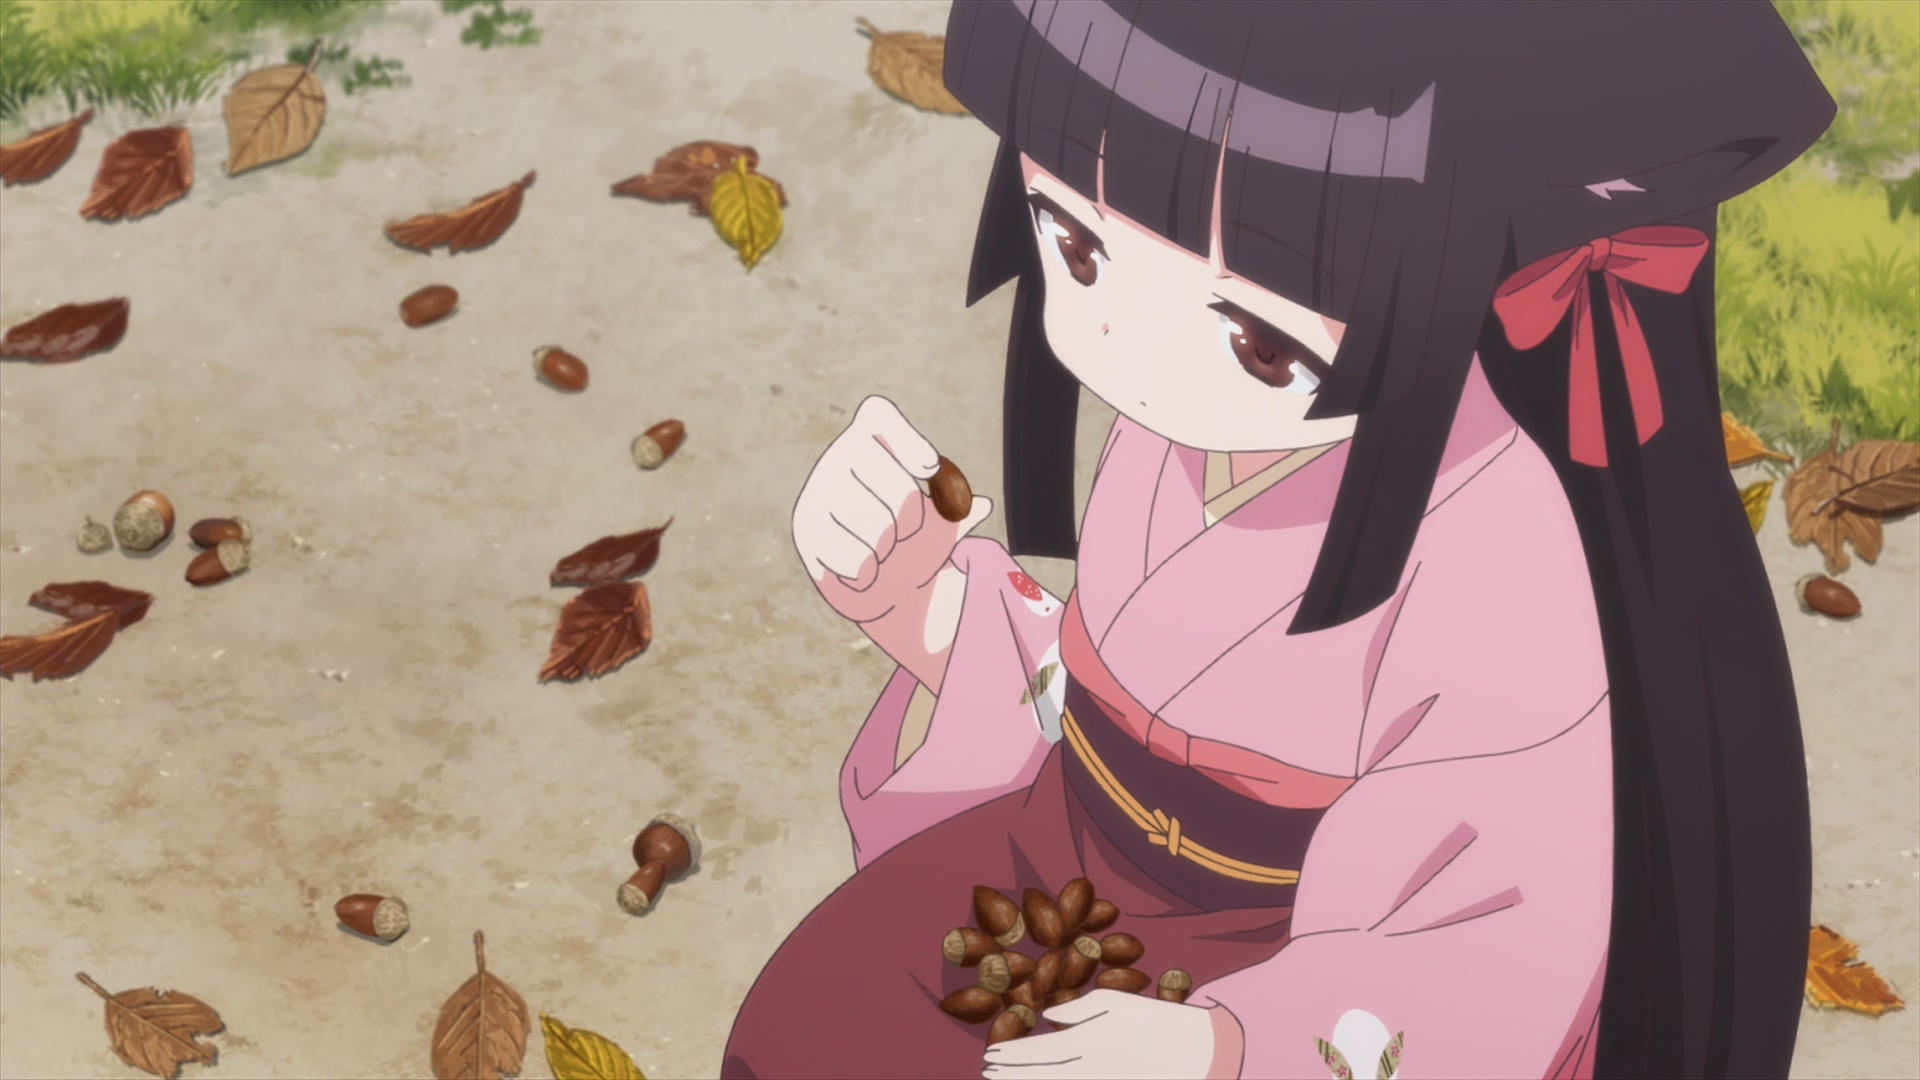樱: (720, 1, 1837, 1080)
